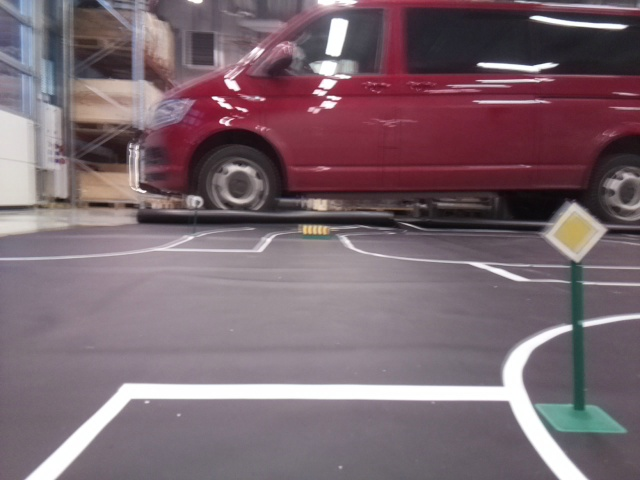Priority: (542, 201, 607, 264)
